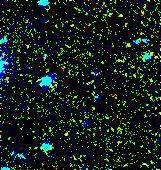star: (106, 0, 136, 29)
